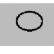no answer: (14, 10, 45, 34)
